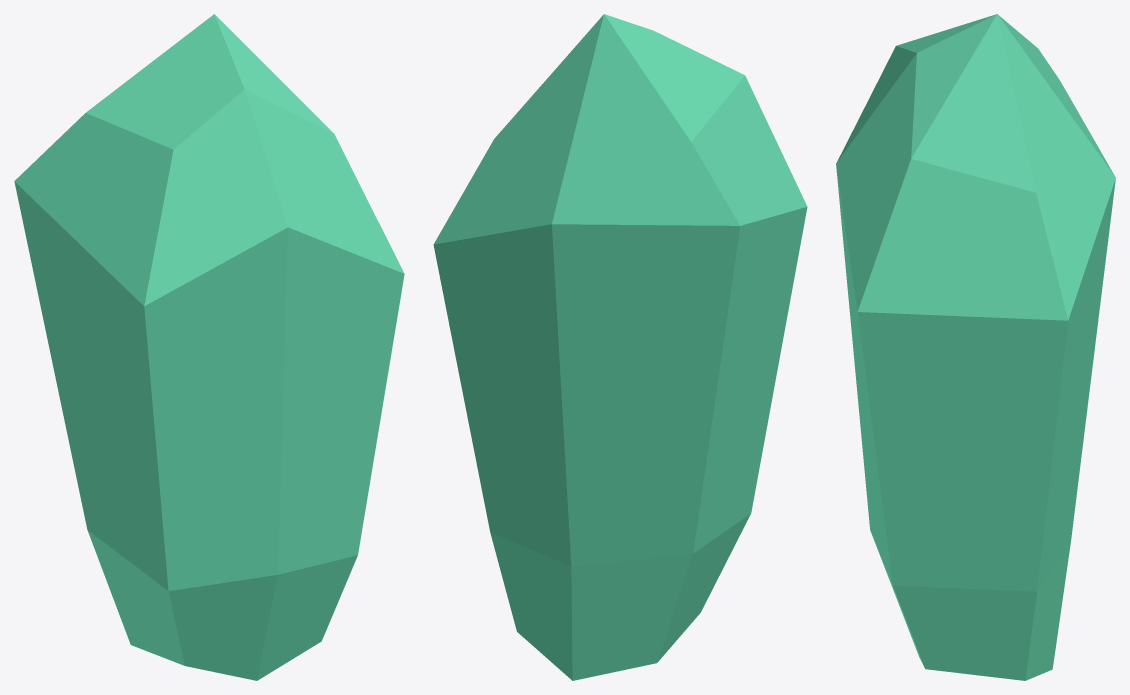
File: Crystal_7.fbx
The picture shows the model from 3 angles, left to right: view 1: azimuth 30°, elevation 25°; view 2: azimuth 150°, elevation 25°; view 3: azimuth 270°, elevation 25°; orthographic projection.
Parts seen in each view (by area): view 1: Crystal_7; view 2: Crystal_7; view 3: Crystal_7.
Part boxes in pixels (x1,y1,x2,y2): Crystal_7: [14, 14, 404, 680]; Crystal_7: [433, 14, 807, 680]; Crystal_7: [836, 14, 1115, 680].
Size of the model in its own units: 109 by 222 by 86.35.
